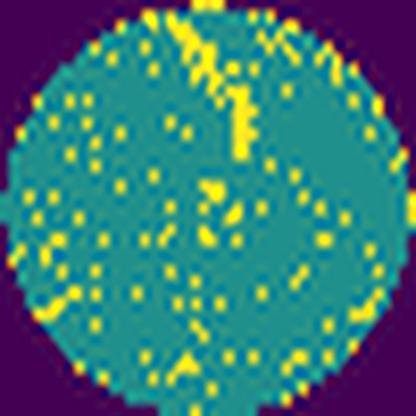Loc: (167, 15, 262, 158)
